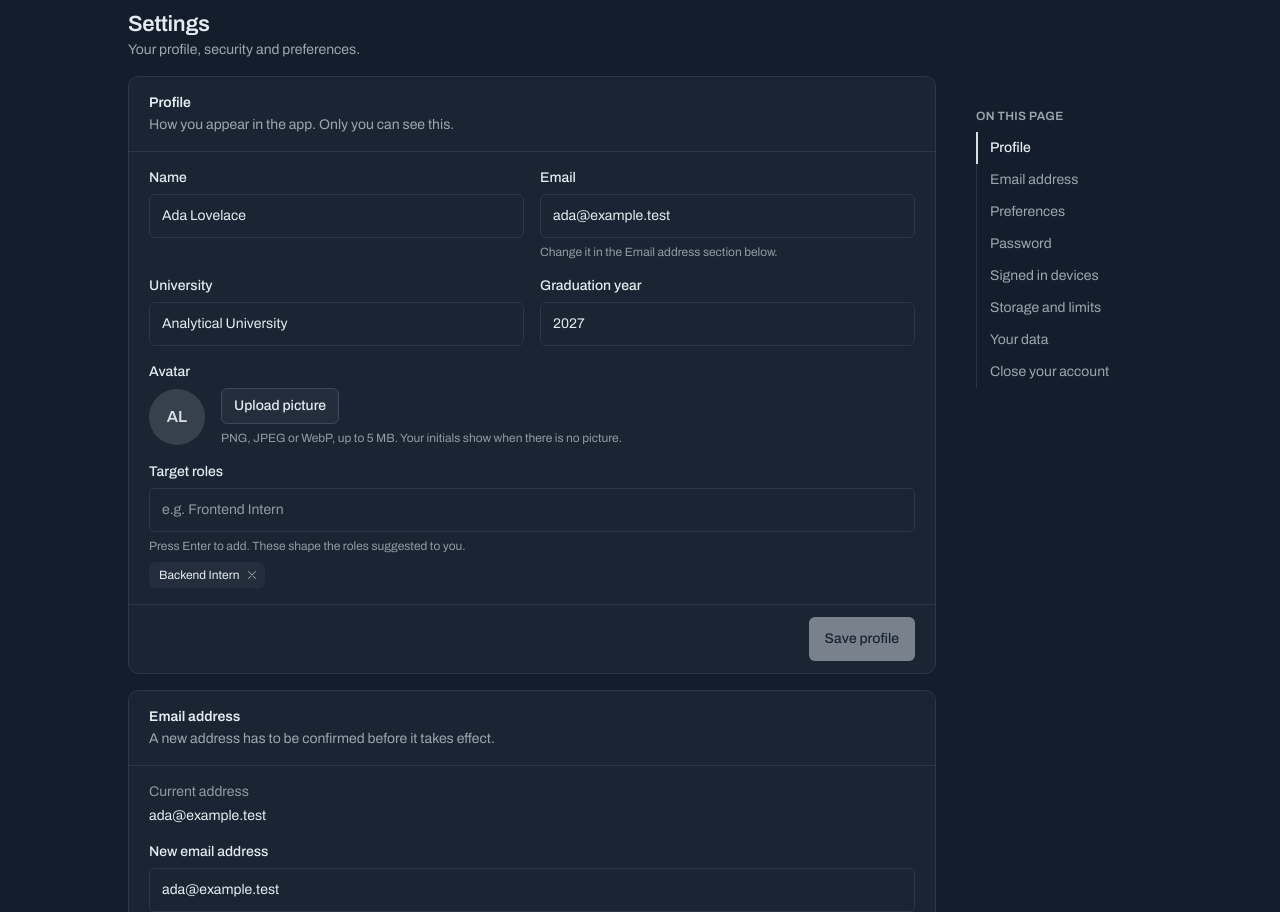
it: settings profile › adds and removes a target role from the keyboard
The image size is (1280, 912).
Type "Platform Intern" into the field labelled "Target roles". click: (532, 510)
box: top-left (149, 488), bottom-right (915, 532)
Then press Enter
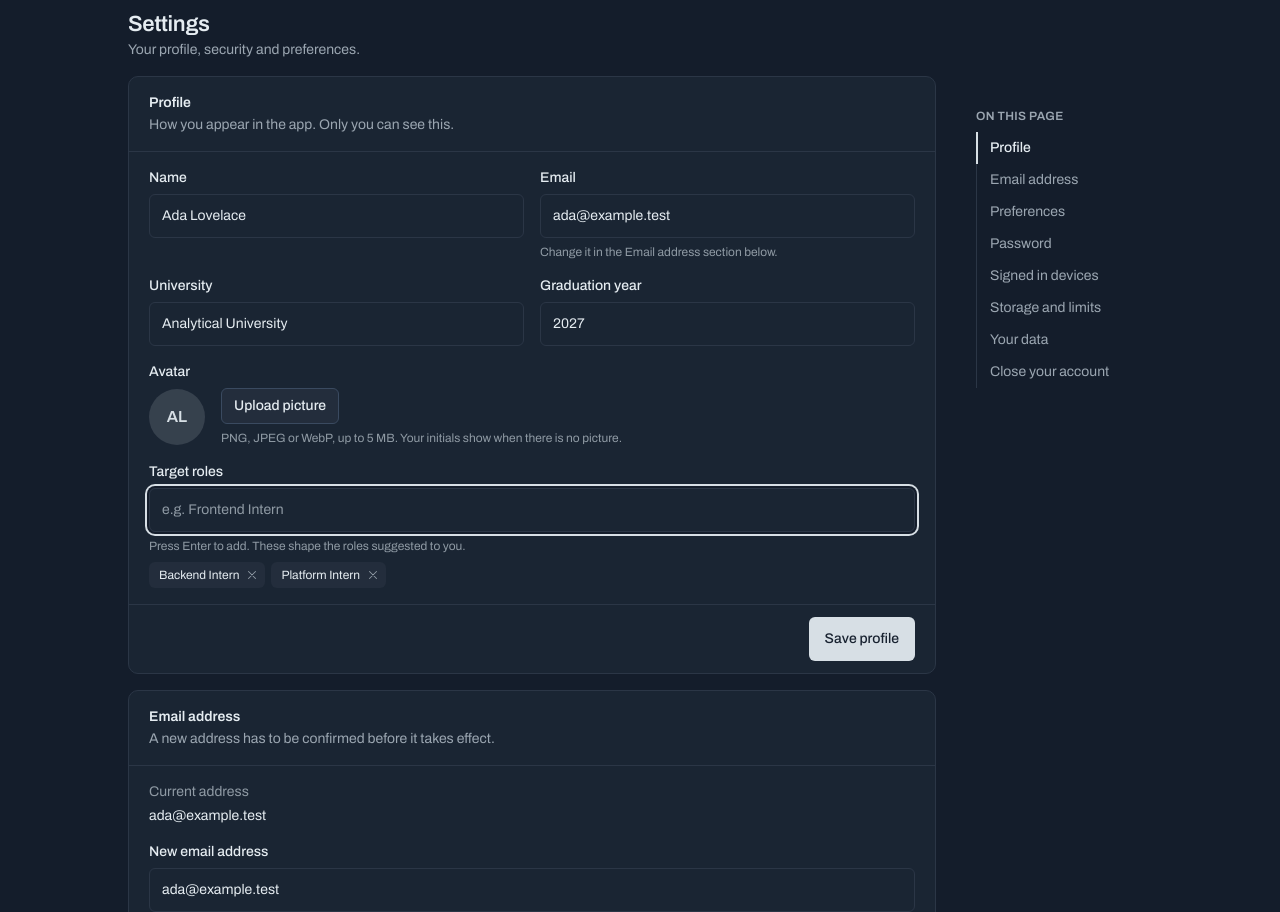
Expected: the list item "Platform Intern" is shown, top-left (271, 562), bottom-right (386, 588)
Click the button named "Remove Platform Intern". click: click(373, 575)
box: top-left (364, 566), bottom-right (382, 584)
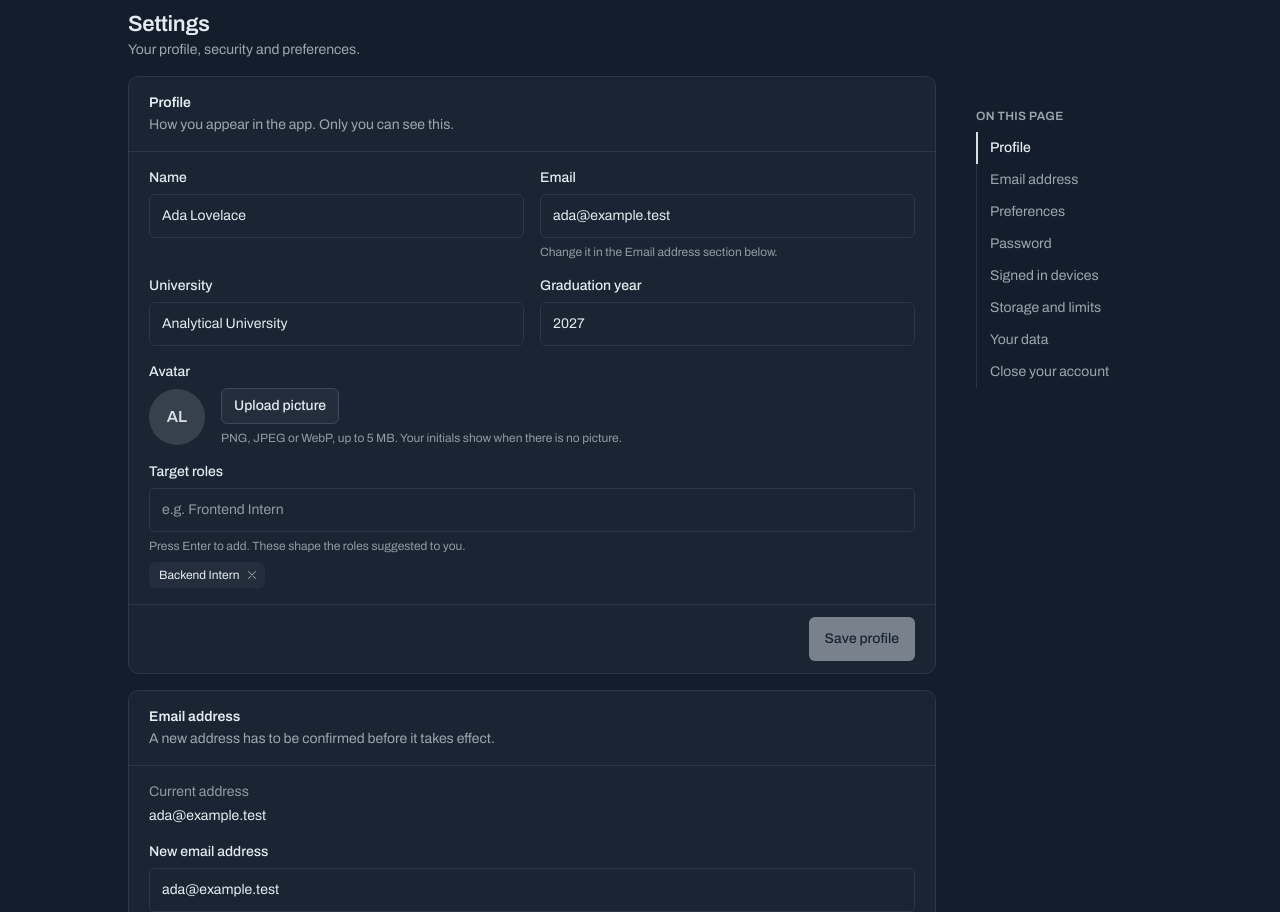
Expected: the list item "Platform Intern" is gone
